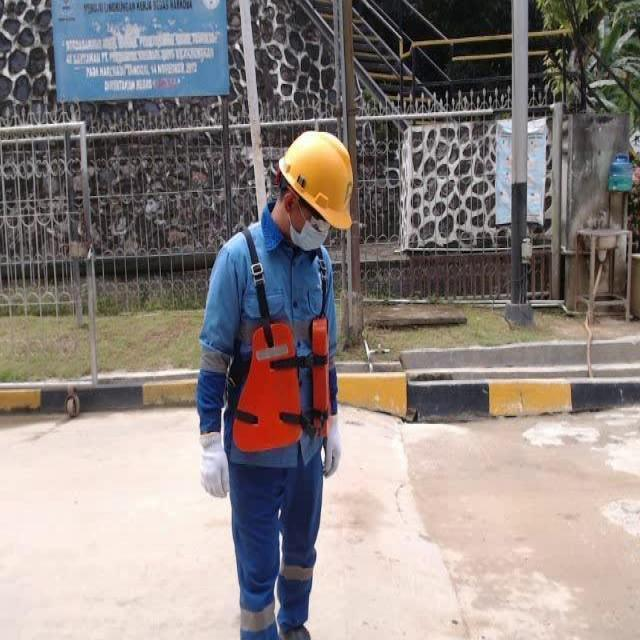Vest: (232, 316, 331, 452)
